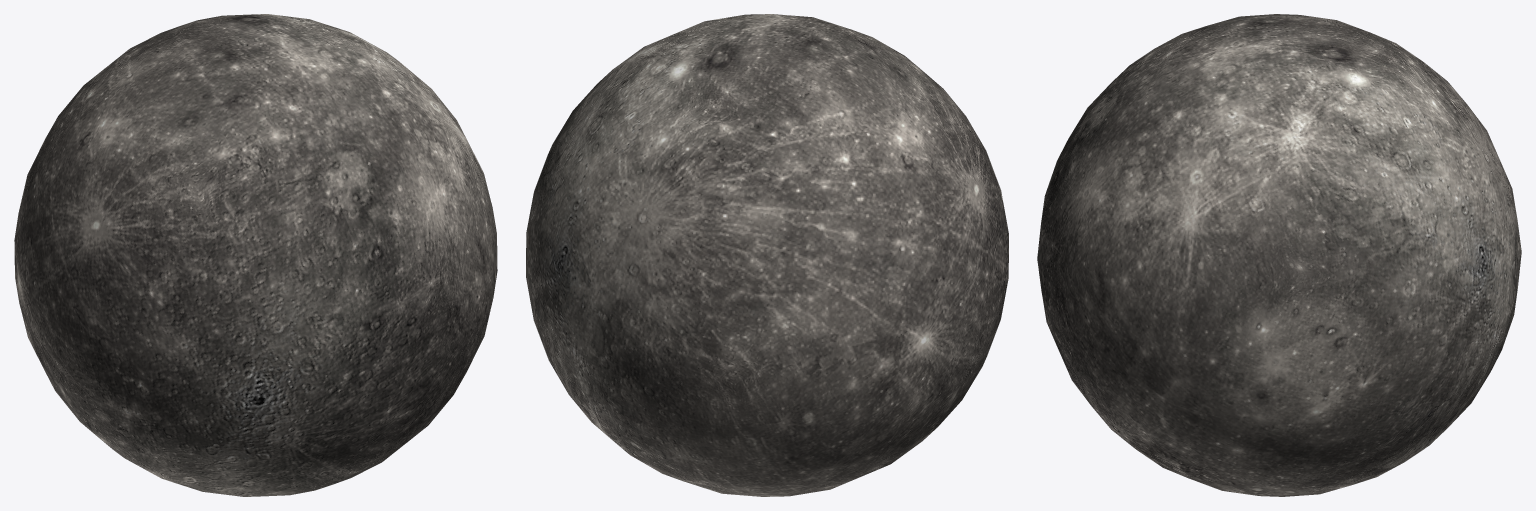
File: mercury.obj
3 views of the same model, side by side, from view 1: azimuth 30°, elevation 25°; view 2: azimuth 150°, elevation 25°; view 3: azimuth 270°, elevation 25° (orthographic).
Parts seen in each view (by area): view 1: Mercury; view 2: Mercury; view 3: Mercury.
Part boxes in pixels (x1,y1,x2,y2): Mercury: (14,14,497,496); Mercury: (526,14,1008,496); Mercury: (1037,14,1521,496).
Size of the model in its own units: 0.4749 by 0.4743 by 0.4759.
Materials: 1 (1 with a texture image).
